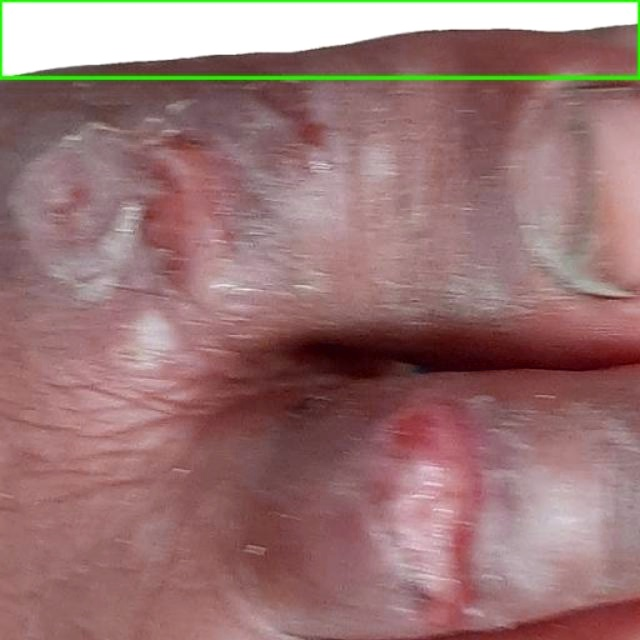Eczema: (0, 0, 639, 77)
